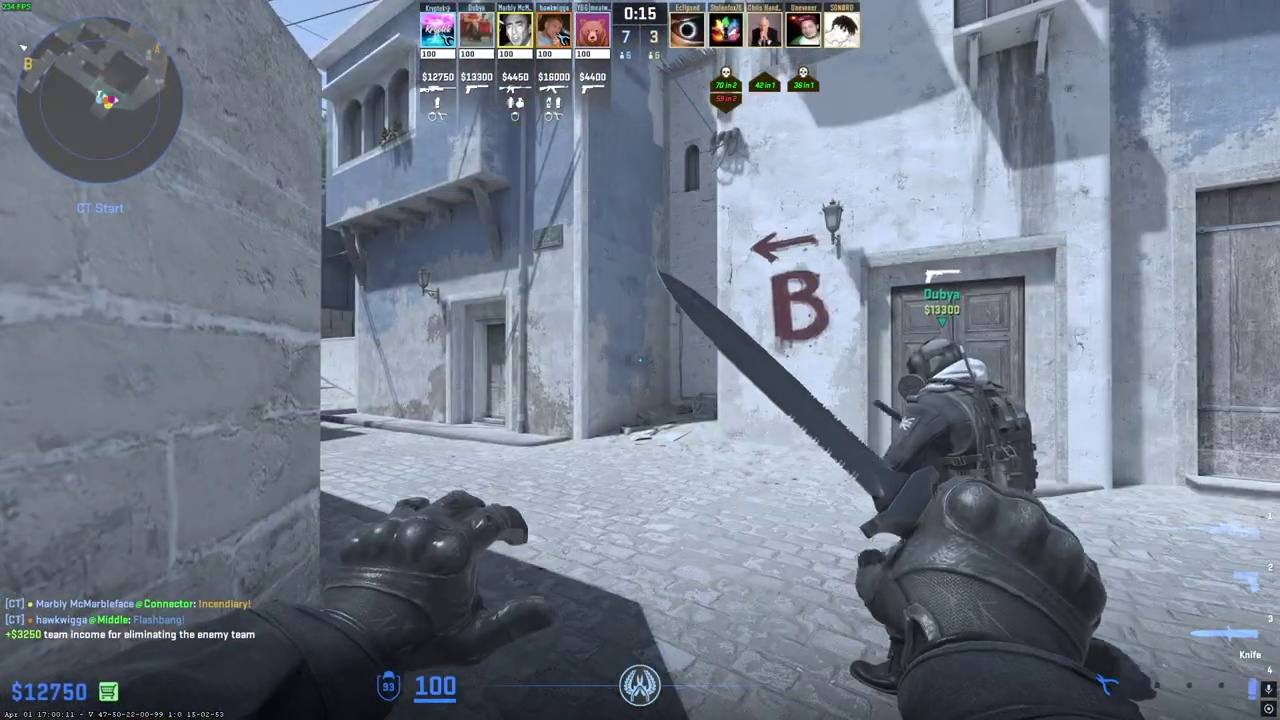CT: (867, 336, 1024, 605)
